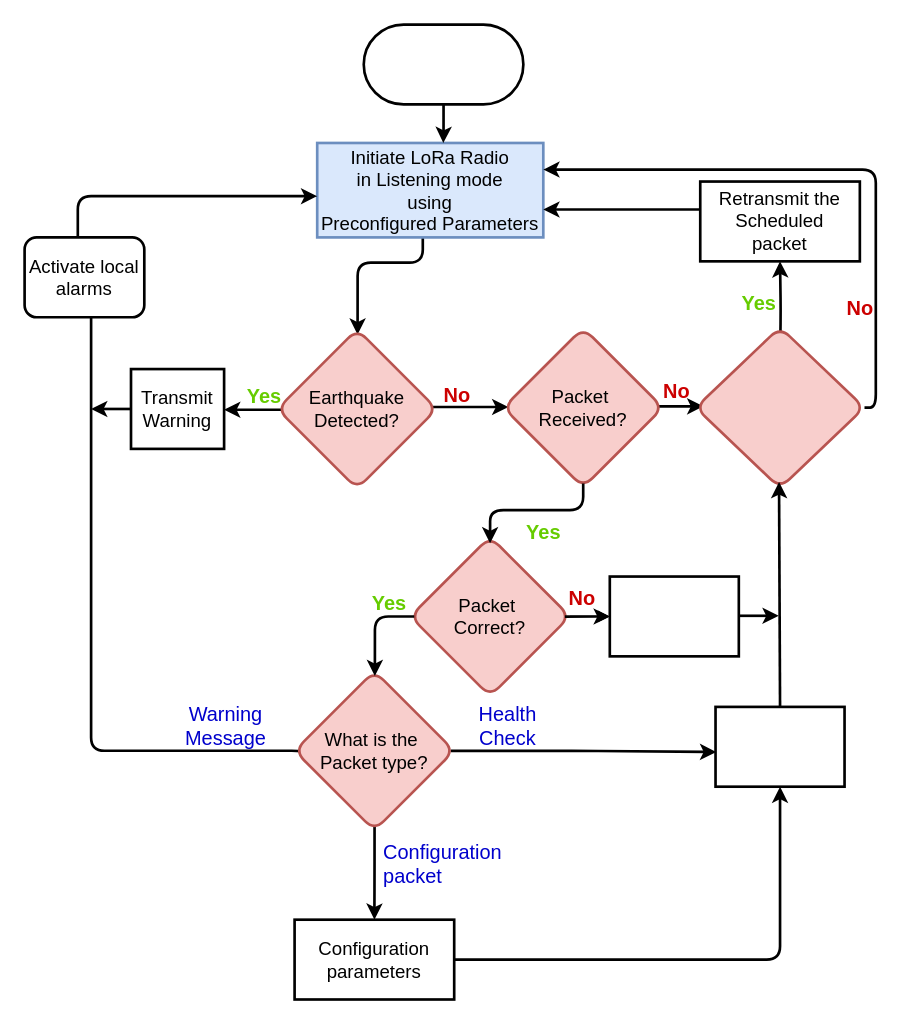
Some shapes in this 910 by 1023 pixel diagram are drawn without their labels. Each missing label, with the box of its shape:
Discard packet: (608, 575, 739, 657)
Schedule a packet: (714, 705, 845, 787)
Scheduled conditions met?: (694, 325, 865, 489)
Start: (362, 23, 524, 105)
